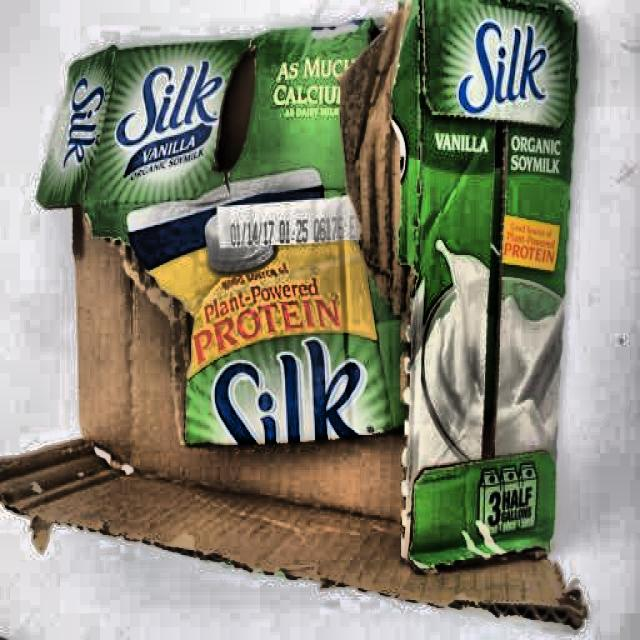cardboard: (3, 4, 588, 633)
